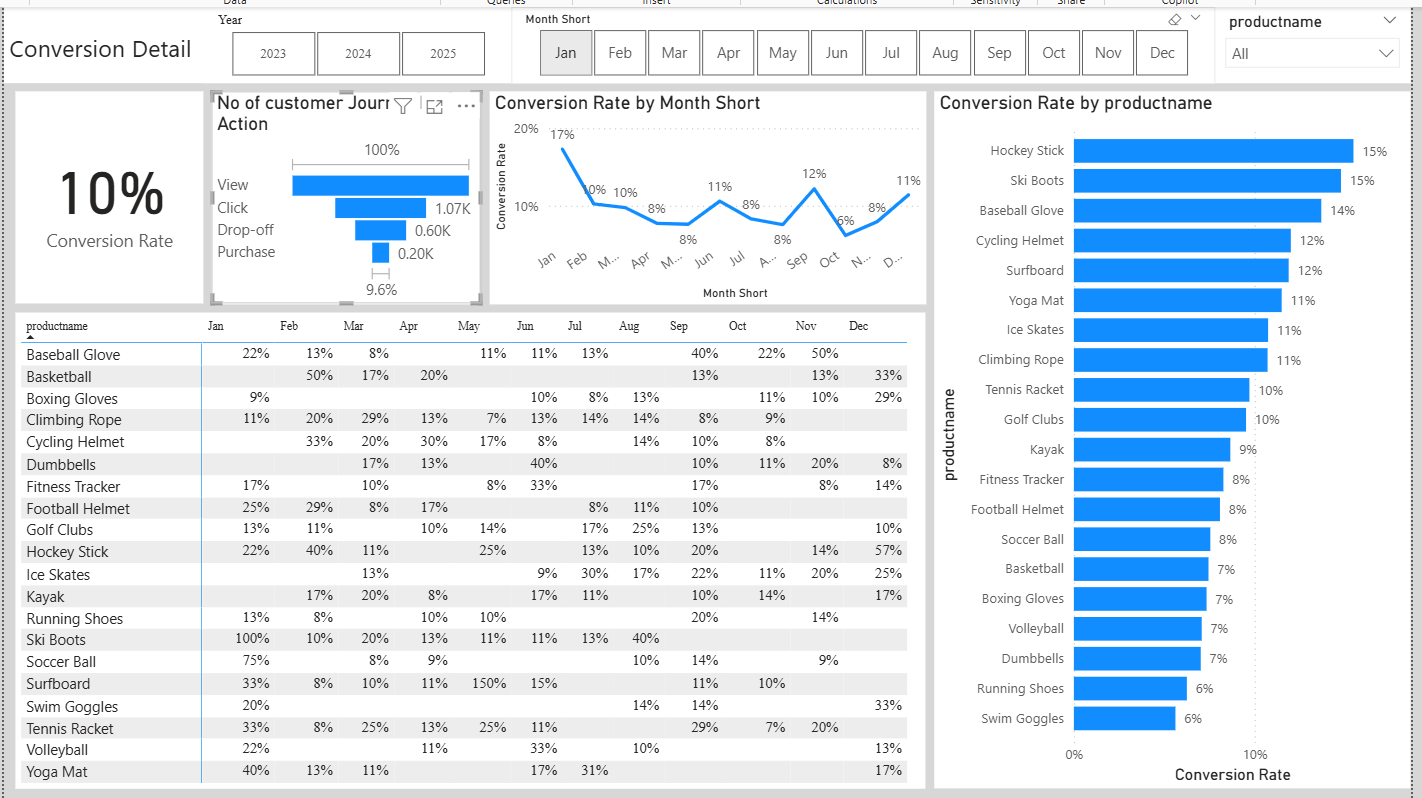

Layout of this report page (visuals, bound fields, positions):
{"tool":"powerbi","page":{"name":"Conversion Detail","canvas":[1280,720],"ordinal":1},"visuals":[{"type":"textbox","box":[0,0,1280.1,69.5],"z":0},{"type":"slicer","fields":{"Values":["Date_Dim.Year"]},"box":[181.5,0,280.1,69.5],"z":1000},{"type":"card","fields":{"Values":["_Measures.Conversion Rate"]},"box":[10.4,76.8,171.2,192.9],"z":2000},{"type":"slicer","fields":{"Values":["dim_products.productname"]},"box":[1101.6,0,178.4,69.5],"z":3000},{"type":"slicer","fields":{"Values":["Date_Dim.Month Short"]},"box":[461.6,0,640,69.5],"z":4000},{"type":"lineChart","fields":{"Category":["Date_Dim.Month Short"],"Y":["_Measures.Conversion Rate"]},"box":[441.6,76.7,397.4,193.5],"z":5000},{"type":"funnel","fields":{"Y":["_Measures.No of customer Journey"],"Category":["fact_customer_journey.Action"]},"box":[189.2,76.7,243.9,193.5],"z":6000},{"type":"barChart","fields":{"Category":["dim_products.productname"],"Y":["_Measures.Conversion Rate"]},"box":[846.3,76.7,433.2,634],"z":7000},{"type":"pivotTable","fields":{"Rows":["dim_products.productname"],"Columns":["Date_Dim.Month Short"],"Values":["_Measures.Conversion Rate"]},"box":[10.5,277.6,828.5,433.2],"z":8000}]}

Visuals, with their boxes on the page's 1280x720 design canvas (x1, y1, x2, y2). These are canvas units, not pixel positions in the 1422x798 screenshot, which may show the page scaled, cropped or inside an application window:
textbox: select_region(0, 0, 1280, 70)
slicer - Date_Dim.Year: select_region(182, 0, 462, 70)
card - _Measures.Conversion Rate: select_region(10, 77, 182, 270)
slicer - dim_products.productname: select_region(1102, 0, 1280, 70)
slicer - Date_Dim.Month Short: select_region(462, 0, 1102, 70)
lineChart - Date_Dim.Month Short x _Measures.Conversion Rate: select_region(442, 77, 839, 270)
funnel - _Measures.No of customer Journey x fact_customer_journey.Action: select_region(189, 77, 433, 270)
barChart - dim_products.productname x _Measures.Conversion Rate: select_region(846, 77, 1280, 711)
pivotTable - dim_products.productname x Date_Dim.Month Short: select_region(10, 278, 839, 711)
